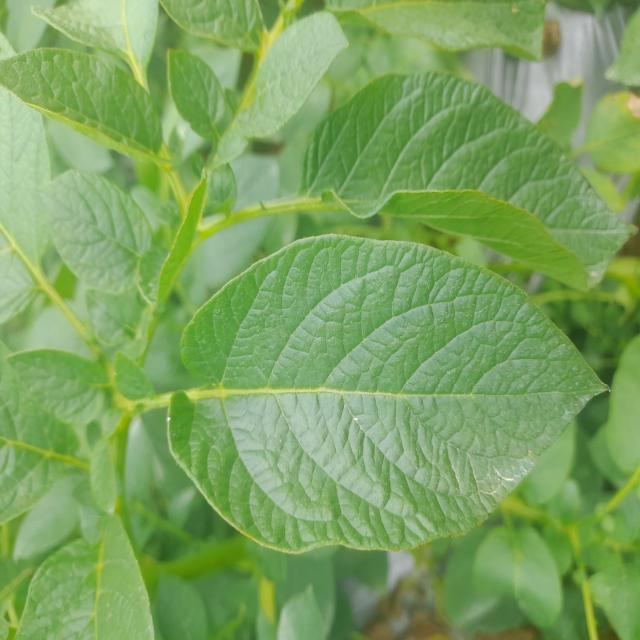healthy: (165, 231, 610, 557)
